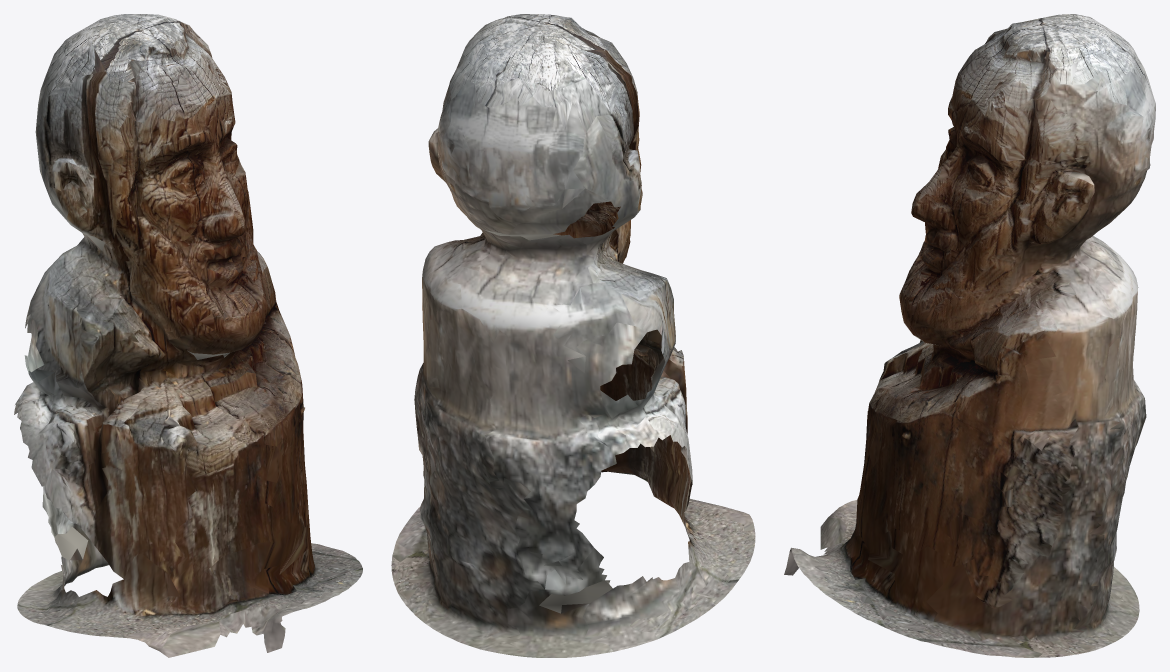
The model's file is bea3.glb.
3 renders of one model, left to right at view 1: azimuth 30°, elevation 25°; view 2: azimuth 150°, elevation 25°; view 3: azimuth 270°, elevation 25°, orthographic. The views are drawn at different scales.
Visible parts, largest first — view 1: model.002; view 2: model.002; view 3: model.002.
Boxes of the visible parts, x1,y1,x2,y2 form: model.002: (14,14,362,657); model.002: (391,14,755,657); model.002: (784,14,1155,657).
Bounding box in the file's own units: 2.17 × 3.9 × 2.27.
Materials: 1 (1 with a texture image).
